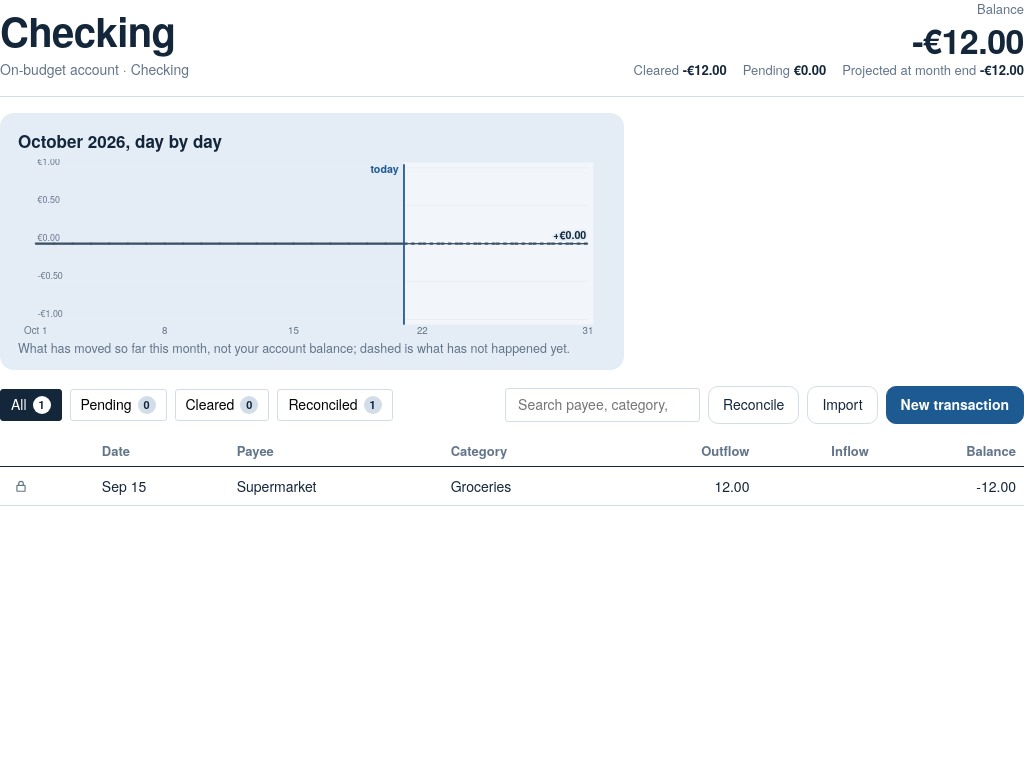
Scenario: AccountRegisterScreen (#54, #333) › unlocks a reconciled transaction from its read-only panel (#60)
This screenshot has width=1024, height=768.
Click the button "Supermarket".
click(336, 486)  # box [237,476,435,497]
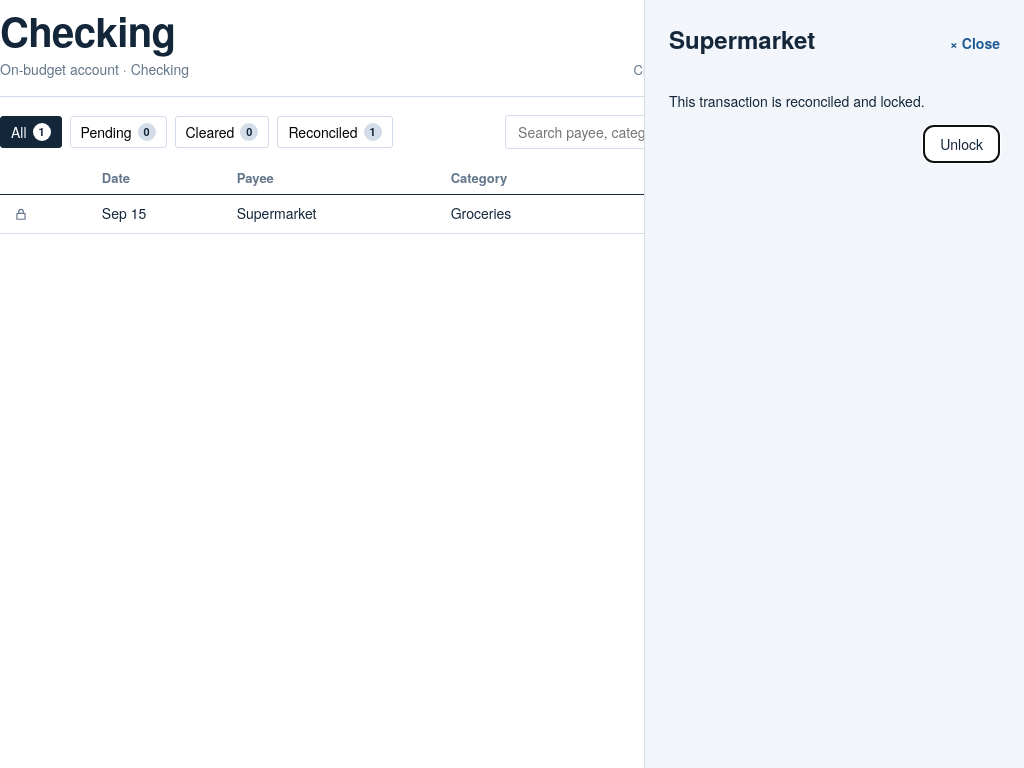
Expected: the text "This transaction is reconciled and locked." is shown, [669,91,925,111]
Click the button "Unlock".
click(962, 144)  # box [923,125,1000,163]
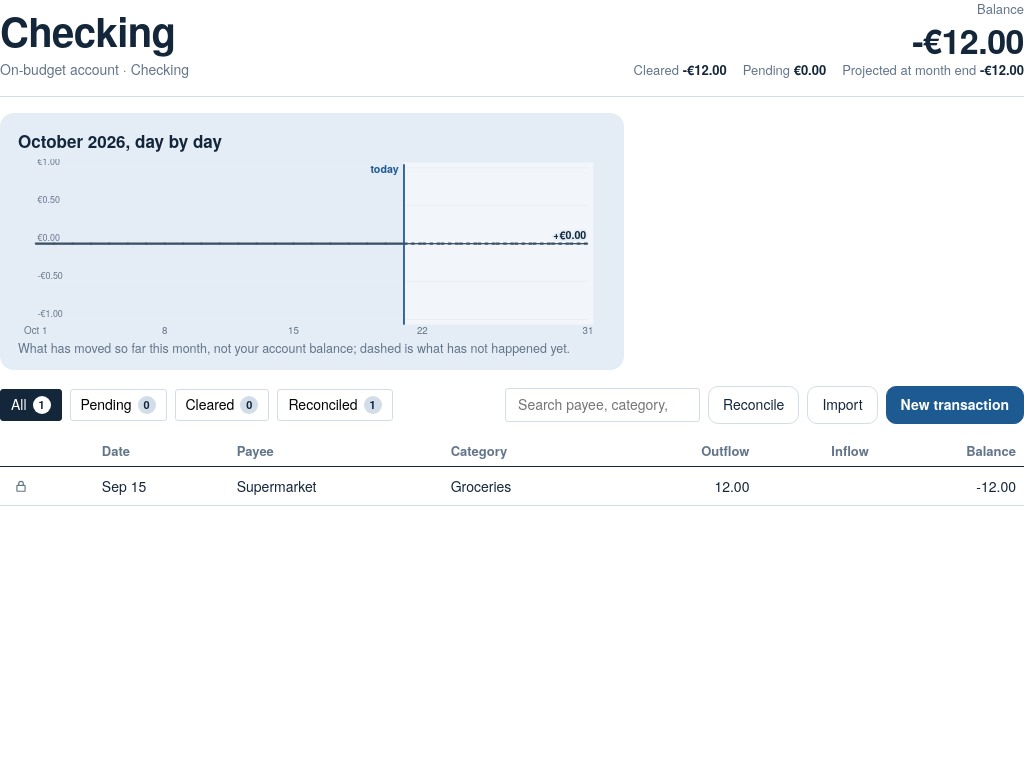
Expected: the text "reconciled and locked" is gone
